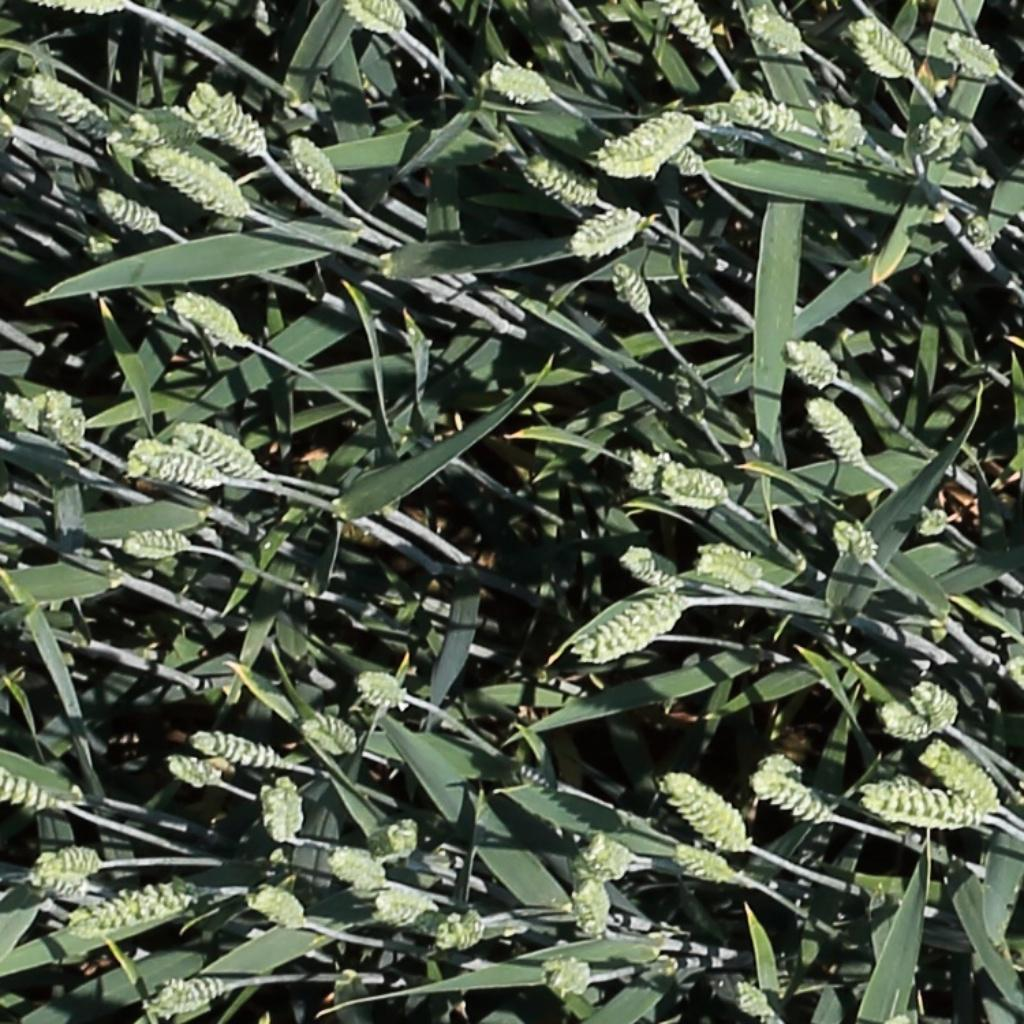0-0: (62, 870, 201, 943), (858, 770, 984, 837), (610, 445, 739, 510), (123, 430, 238, 501), (147, 147, 257, 220), (581, 113, 700, 180), (578, 592, 682, 663), (663, 772, 750, 856), (914, 736, 1000, 813), (174, 421, 265, 486), (2, 385, 91, 451), (188, 79, 268, 152), (555, 208, 649, 269), (745, 767, 837, 829), (372, 888, 468, 946), (845, 12, 921, 83), (695, 102, 771, 169), (30, 73, 111, 135), (805, 393, 869, 469), (724, 88, 809, 144), (692, 539, 769, 600), (616, 544, 700, 596), (187, 727, 288, 770), (815, 93, 874, 166), (485, 60, 567, 112), (669, 840, 750, 892), (565, 830, 641, 885), (174, 290, 248, 346), (285, 128, 344, 195), (522, 155, 600, 203), (259, 773, 308, 848), (162, 748, 234, 797), (147, 974, 230, 1015), (26, 841, 113, 880), (111, 523, 191, 563), (611, 253, 658, 320), (663, 0, 719, 55), (877, 698, 937, 748), (95, 187, 162, 230), (574, 871, 613, 943), (912, 678, 961, 734), (128, 109, 202, 146), (23, 867, 91, 905), (748, 9, 805, 53), (786, 338, 842, 382), (946, 31, 1000, 76), (0, 767, 55, 811), (834, 516, 877, 572), (734, 976, 783, 1024), (248, 890, 307, 928), (916, 114, 962, 161), (370, 819, 420, 862), (301, 719, 359, 756), (329, 854, 389, 888), (348, 1, 401, 34), (965, 206, 999, 255), (435, 917, 483, 951), (911, 507, 953, 544), (357, 675, 408, 704), (39, 0, 128, 13)
